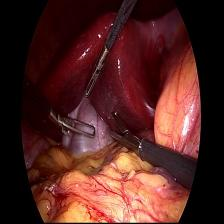Grasper: (48, 106, 98, 156), (110, 106, 145, 170), (85, 40, 108, 102)
